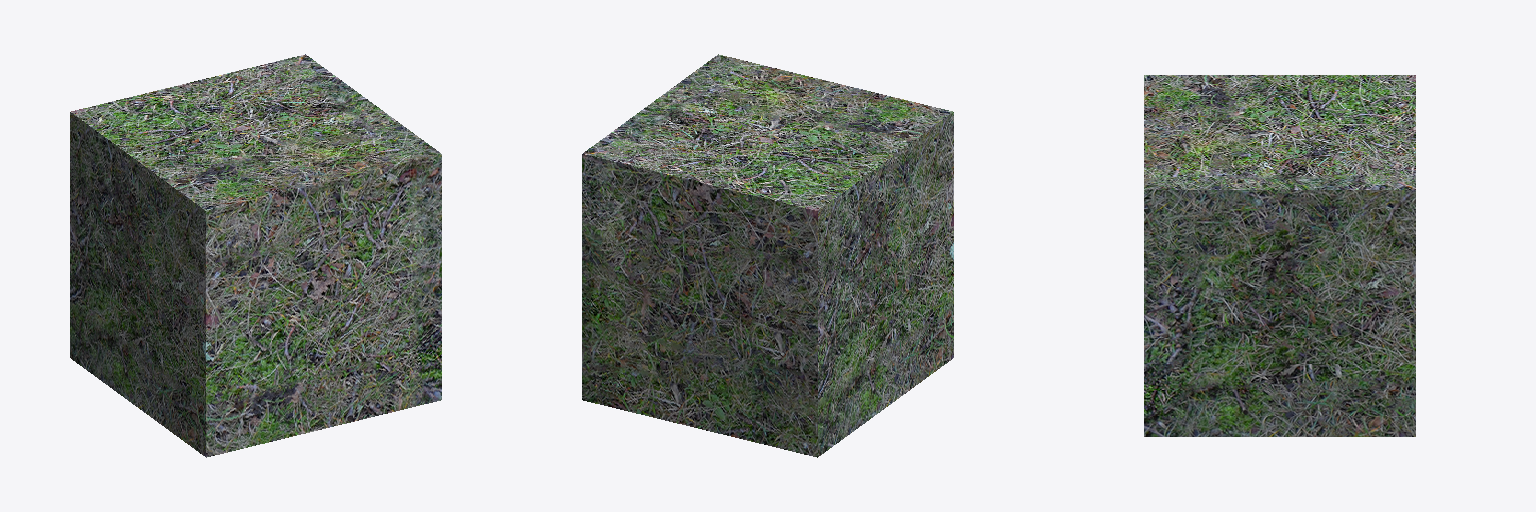
3 views of the same model, side by side, from view 1: azimuth 30°, elevation 25°; view 2: azimuth 150°, elevation 25°; view 3: azimuth 270°, elevation 25° (orthographic).
Parts seen in each view (by area): view 1: pCube1; view 2: pCube1; view 3: pCube1.
Part boxes in pixels (bbox=[...]): pCube1: bbox=[70, 54, 441, 457]; pCube1: bbox=[582, 54, 953, 457]; pCube1: bbox=[1144, 75, 1415, 436].
Bounding box in the file's own units: 10 × 10 × 10.
1 materials, 1 textured.